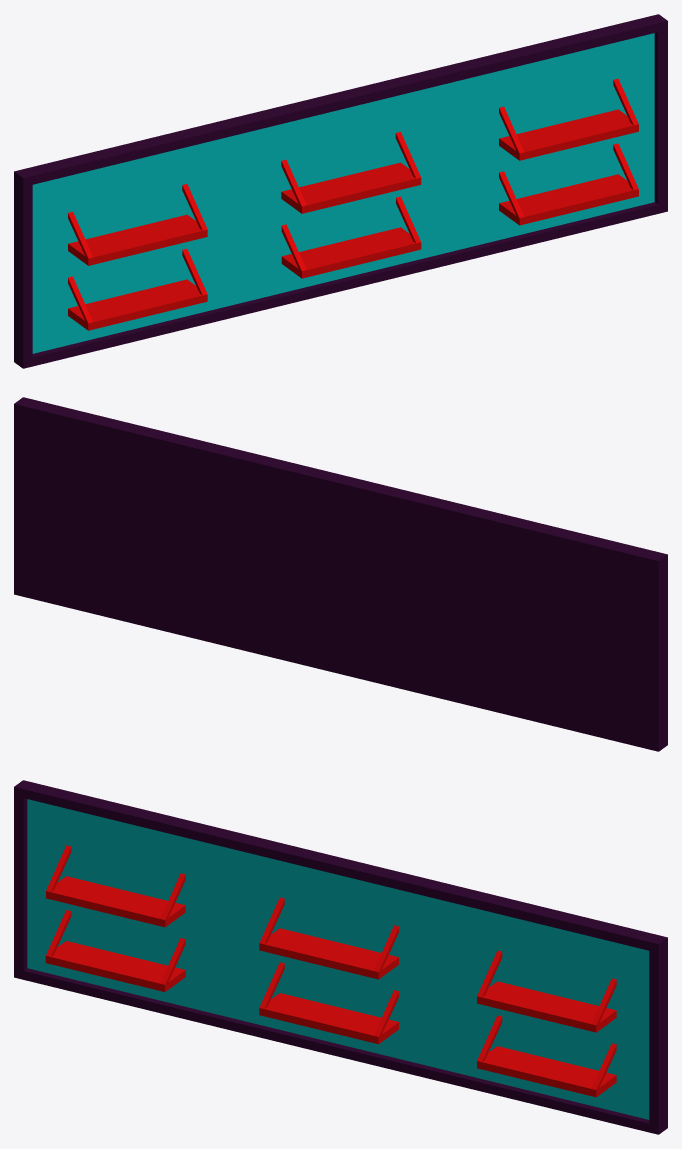
The model's file is Weapon Shelf.fbx.
3 views of the same model, one above another, from view 1: azimuth 30°, elevation 25°; view 2: azimuth 150°, elevation 25°; view 3: azimuth 330°, elevation 25° (orthographic).
Parts seen in each view (by area): view 1: Weapon_shevsl1_Shelves; view 2: Weapon_shevsl1_Shelves; view 3: Weapon_shevsl1_Shelves.
Part boxes in pixels (bbox=[...]): Weapon_shevsl1_Shelves: bbox=[14, 14, 667, 368]; Weapon_shevsl1_Shelves: bbox=[14, 397, 667, 751]; Weapon_shevsl1_Shelves: bbox=[14, 780, 667, 1134].
Bounding box in the file's own units: 3.98 × 1.12 × 0.2766.
